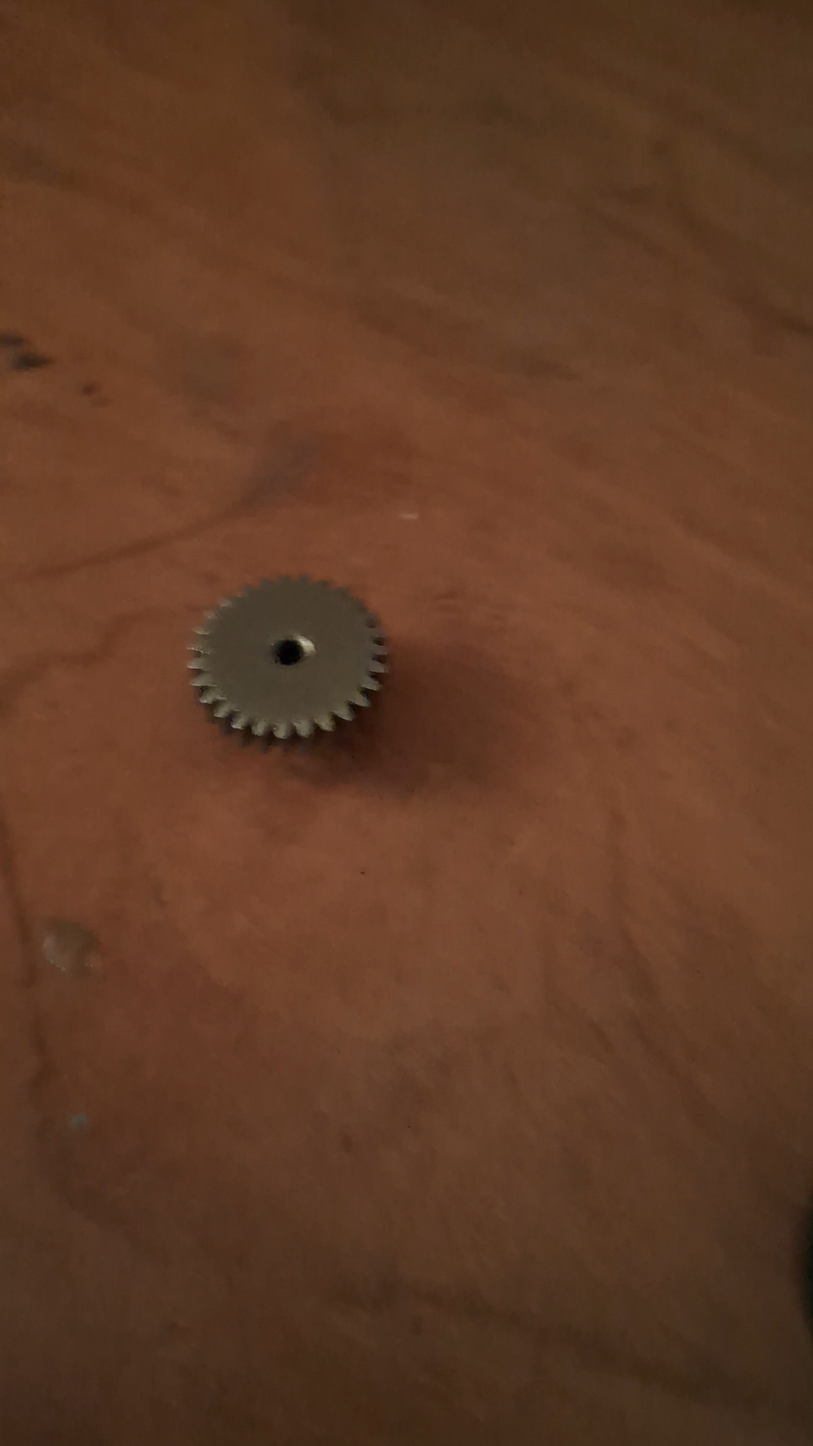spur gear: (189, 577, 387, 741)
